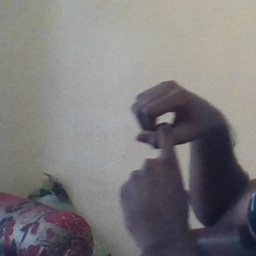Q: (116, 78, 207, 227)
